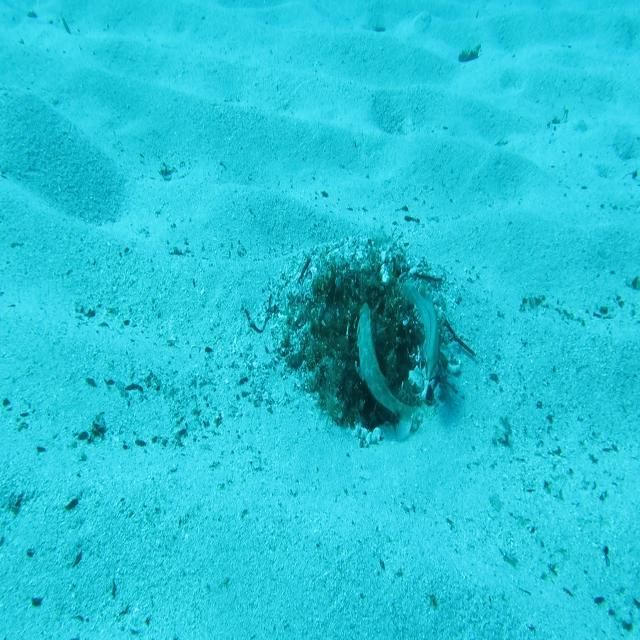DAN_CIRC: (354, 297, 418, 425)
core_nest: (336, 279, 386, 334)
female: (400, 276, 442, 386)
nest: (253, 211, 468, 465)
vegetation: (456, 46, 481, 64)
